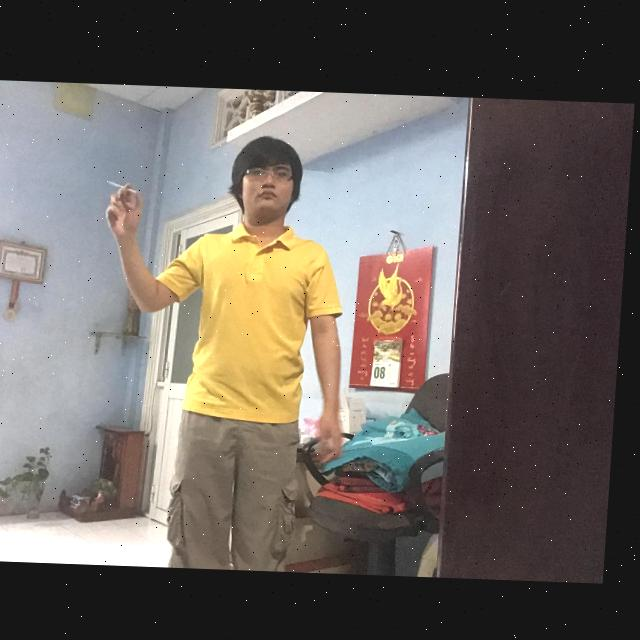cigarette: (109, 179, 140, 192)
